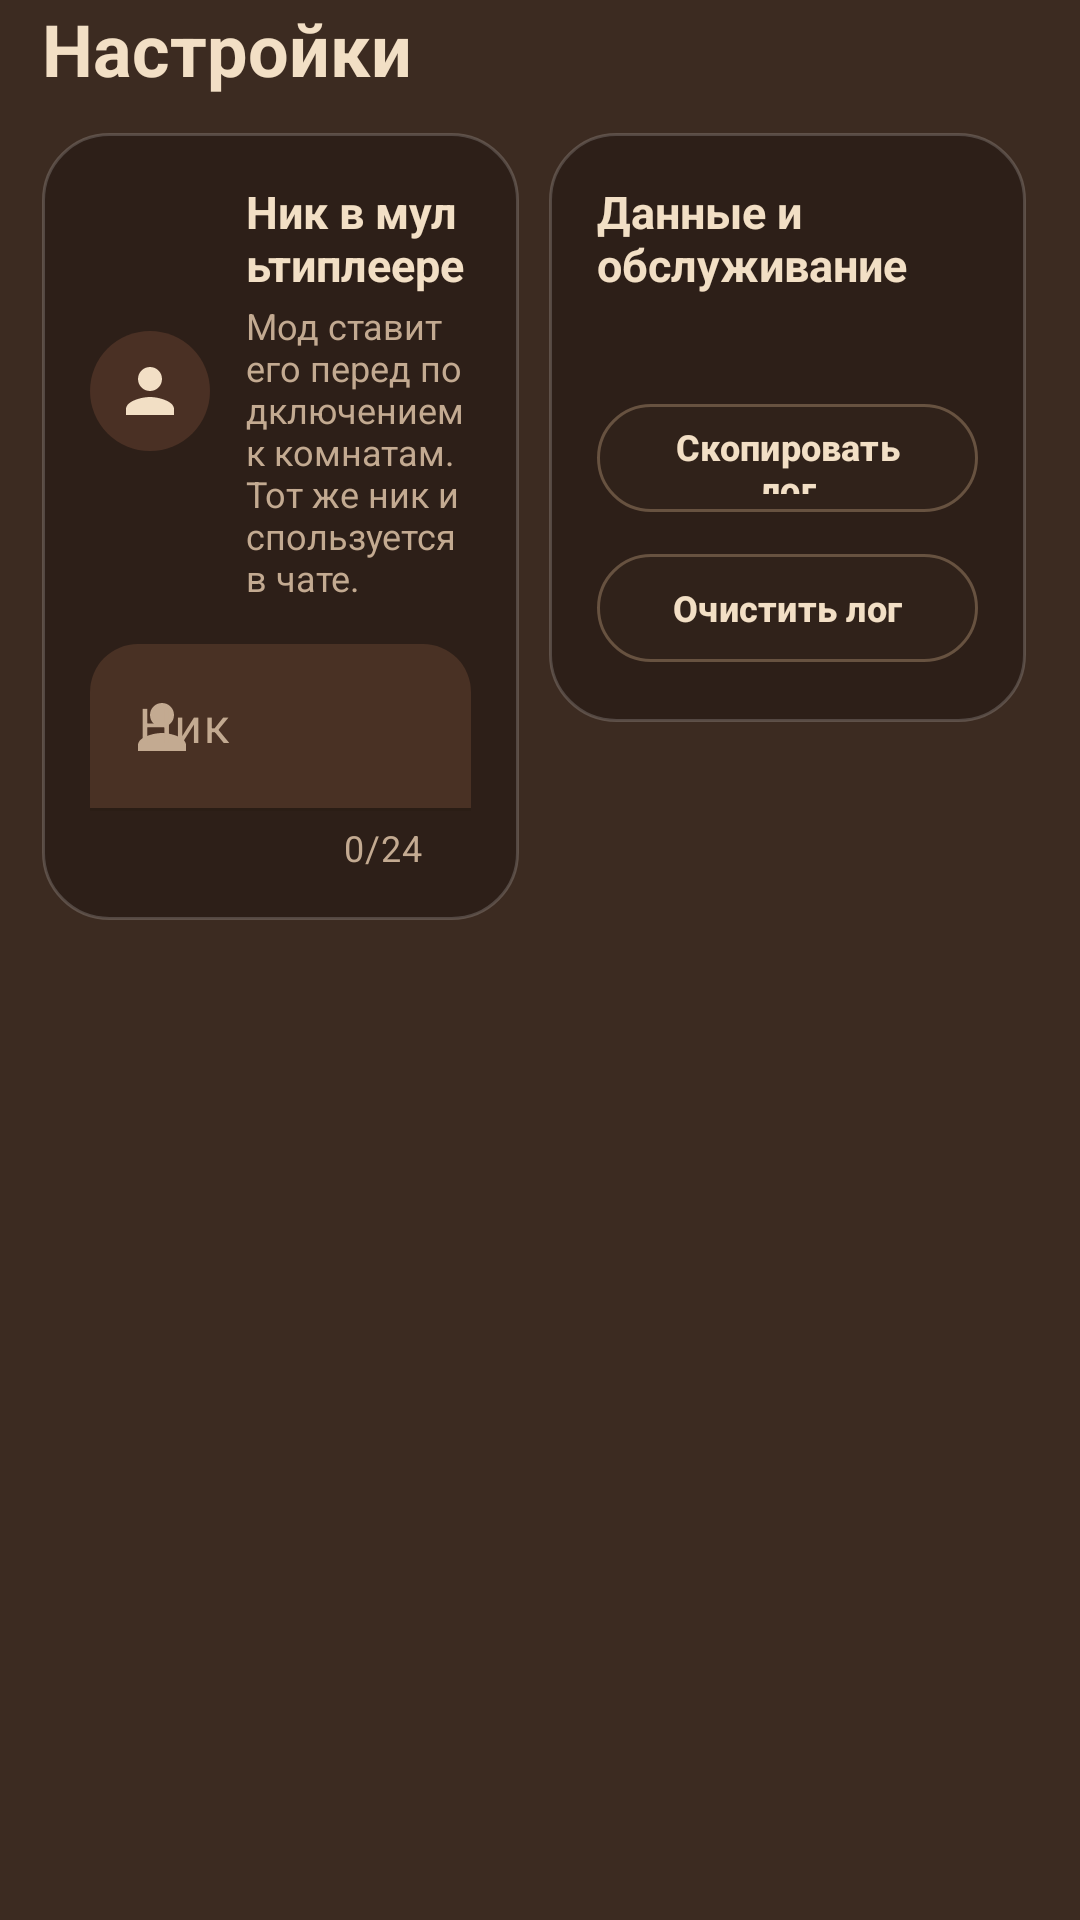

Point at icon controls on the screen. Image size 1080px x 1920px, points as point (x, y).
person: point (150, 391)
